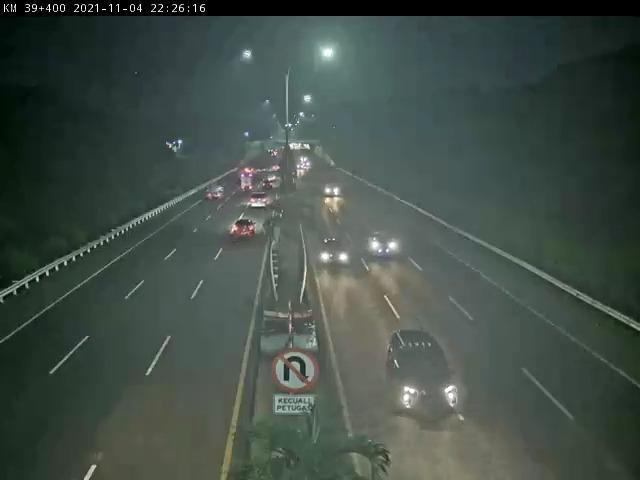car: (382, 319, 470, 429), (367, 234, 405, 265), (327, 247, 360, 272), (230, 220, 258, 240), (323, 183, 345, 201), (253, 195, 267, 212)
